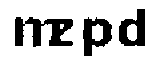d: (117, 9, 149, 52)
m: (10, 16, 60, 50)
p: (80, 14, 116, 59)
z: (49, 18, 76, 48)
